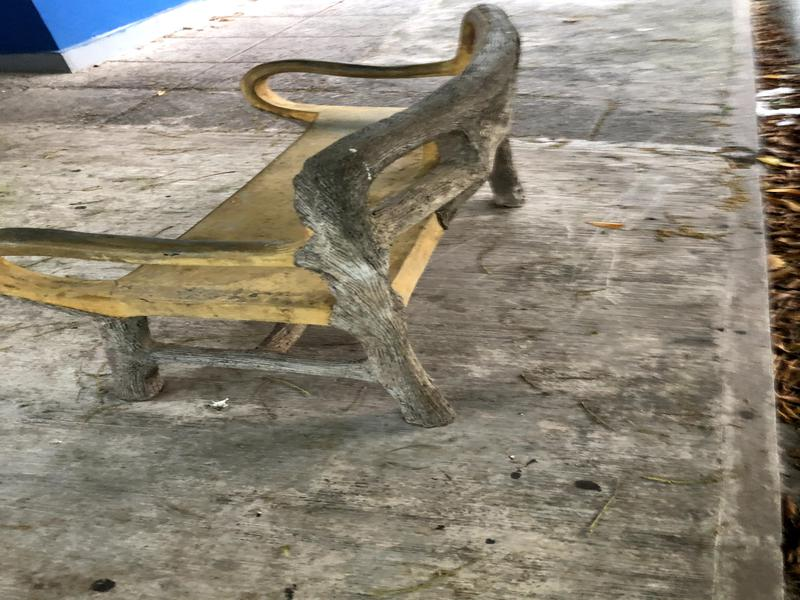18.0050864_-76.7496363_bench: (1, 1, 574, 438)
